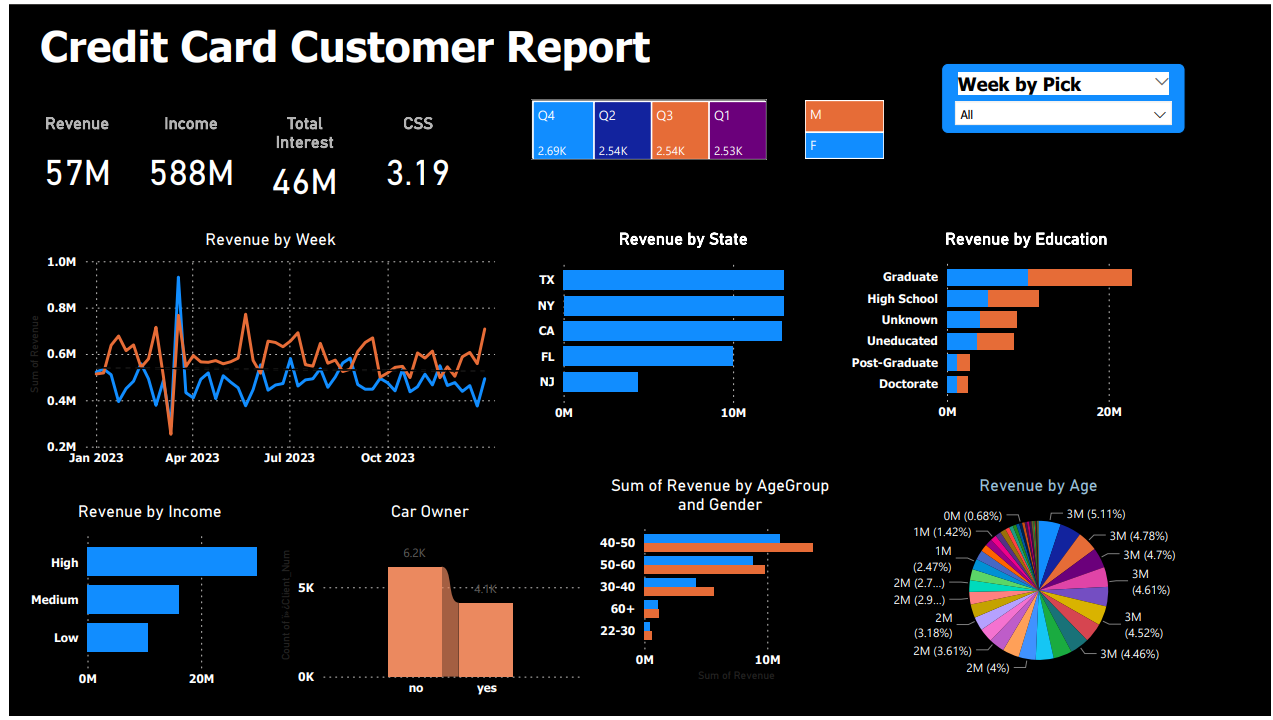

Layout of this report page (visuals, bound fields, positions):
{"tool":"powerbi","page":{"name":"Page 3","canvas":[1280,720],"ordinal":2},"visuals":[{"type":"textbox","box":[15.7,12.9,650,62.9],"z":0},{"type":"barChart","title":"Revenue by Income","fields":{"Y":["Sum(ccdb cc_detail.Revenue)"],"Category":["ccdb cust_detail.IncomeGroup"]},"box":[15.7,502.9,255.7,207.1],"z":1000},{"type":"card","title":"Revenue","fields":{"Values":["Sum(ccdb cc_detail.Revenue)"]},"box":[15.7,110,107.1,94.3],"z":3000},{"type":"card","title":"Total Interest","fields":{"Values":["Sum(ccdb cc_detail.Total_Trans_Amt)"]},"box":[247.1,110,107.1,94.3],"z":4000},{"type":"card","title":"Income","fields":{"Values":["Sum(ccdb cust_detail.Income)"]},"box":[131.4,110,107.1,94.3],"z":5000},{"type":"card","title":"CSS","fields":{"Values":["Avg(ccdb cust_detail.Cust_Satisfaction_Score)"]},"box":[362,110,107.1,94.3],"z":6000},{"type":"slicer","fields":{"Values":["ccdb cc_detail.Week_Start_Date"]},"box":[945.7,58.6,248.6,72.9],"z":7000},{"type":"treemap","fields":{"Group":["ccdb cc_detail.Qtr"],"Values":["CountNonNull(ccdb cc_detail.Client_Num)"]},"box":[530,95.7,238.6,61.4],"z":8000},{"type":"lineChart","title":"Revenue by Week","fields":{"Y":["Sum(ccdb cc_detail.Revenue)"],"Series":["ccdb cust_detail.Gender"],"Category":["ccdb cc_detail.Week_Start_Date"]},"box":[15.7,227.1,500,250],"z":12000},{"type":"treemap","fields":{"Group":["ccdb cust_detail.Gender"],"Values":["Sum(ccdb cc_detail.Revenue)"]},"box":[807.1,95.7,81.4,61.4],"z":13000},{"type":"columnChart","title":"Car Owner","fields":{"Category":["ccdb cust_detail.Car_Owner"],"Y":["CountNonNull(ccdb cust_detail.ï»¿Client_Num)"]},"box":[271.4,502.9,312.9,207.1],"z":14000},{"type":"pieChart","title":"Revenue by Age","fields":{"Category":["ccdb cust_detail.Customer_Age"],"Y":["Sum(ccdb cc_detail.Revenue)"]},"box":[874.3,477.1,341.4,214.3],"z":15000},{"type":"barChart","title":"Revenue by Education","fields":{"Y":["Sum(ccdb cc_detail.Revenue)"],"Category":["ccdb cust_detail.Education_Level"],"Series":["ccdb cust_detail.Gender"]},"box":[848.6,227.1,367.1,212.9],"z":16000},{"type":"barChart","title":"Revenue by State","fields":{"Y":["Sum(ccdb cc_detail.Revenue)"],"Category":["ccdb cust_detail.state_cd"]},"box":[530,227.1,308.6,214.3],"z":17000},{"type":"clusteredBarChart","fields":{"Category":["ccdb cust_detail.AgeGroup"],"Y":["Sum(ccdb cc_detail.Revenue)"],"Series":["ccdb cust_detail.Gender"]},"box":[594.3,477.1,255.7,214.3],"z":18000}]}

Visuals, with their boxes in screenshot pixels (x1, y1, x2, y2), scaled from the page's 1280x720 canvas onto the 1273x720 screenshot:
textbox: select_region(16, 13, 662, 76)
"Revenue by Income" barChart: select_region(16, 503, 270, 710)
"Revenue" card: select_region(16, 110, 122, 204)
"Total Interest" card: select_region(246, 110, 352, 204)
"Income" card: select_region(131, 110, 237, 204)
"CSS" card: select_region(360, 110, 467, 204)
slicer - ccdb cc_detail.Week_Start_Date: select_region(941, 59, 1188, 132)
treemap - ccdb cc_detail.Qtr x CountNonNull(ccdb cc_detail.Client_Num): select_region(527, 96, 764, 157)
"Revenue by Week" lineChart: select_region(16, 227, 513, 477)
treemap - ccdb cust_detail.Gender x Sum(ccdb cc_detail.Revenue): select_region(803, 96, 884, 157)
"Car Owner" columnChart: select_region(270, 503, 581, 710)
"Revenue by Age" pieChart: select_region(870, 477, 1209, 691)
"Revenue by Education" barChart: select_region(844, 227, 1209, 440)
"Revenue by State" barChart: select_region(527, 227, 834, 441)
clusteredBarChart - ccdb cust_detail.AgeGroup x Sum(ccdb cc_detail.Revenue): select_region(591, 477, 845, 691)
